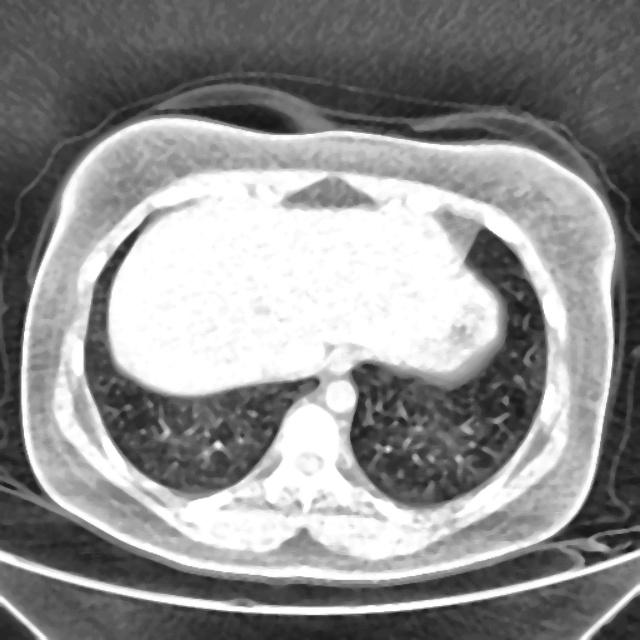covid: (19, 105, 618, 585)
